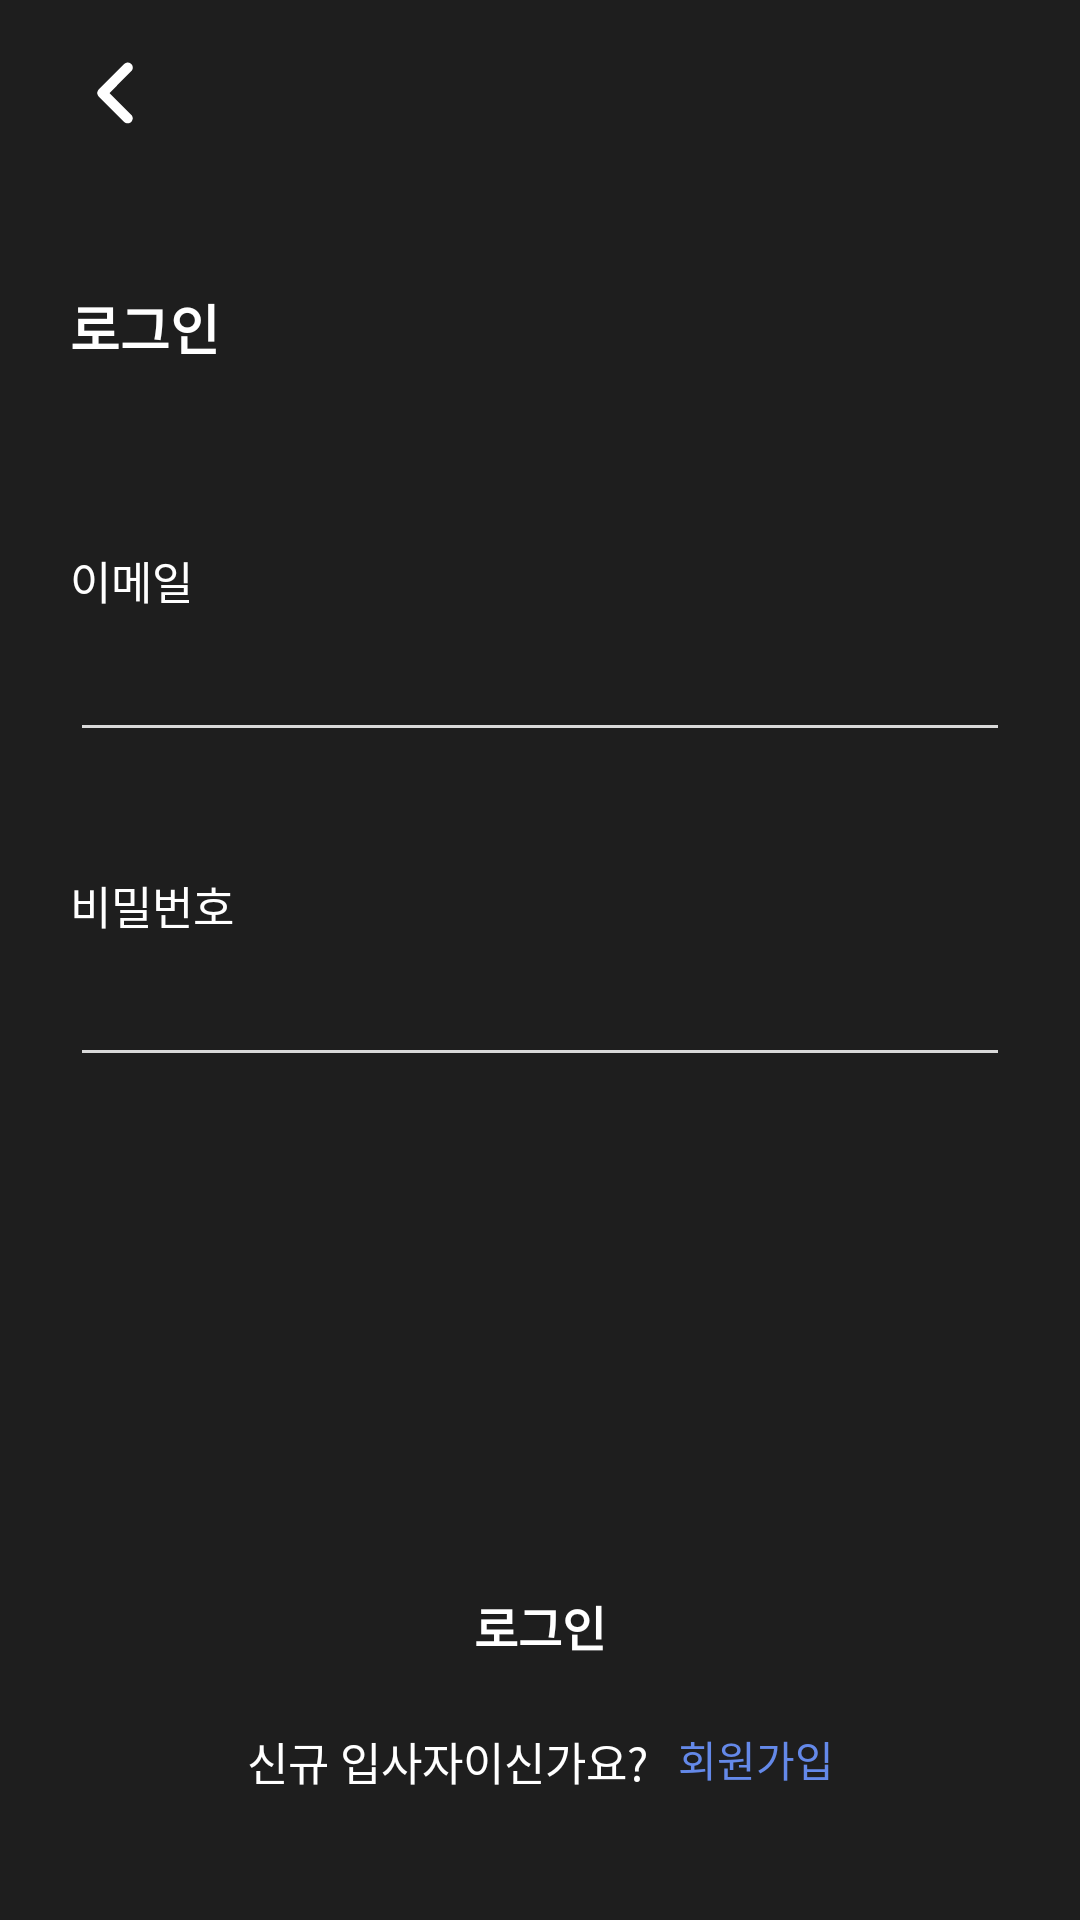

Where icons sit on this 1080px×1920px app screen, as (x1, y1, x2, y2):
back: (97, 62, 133, 124)
